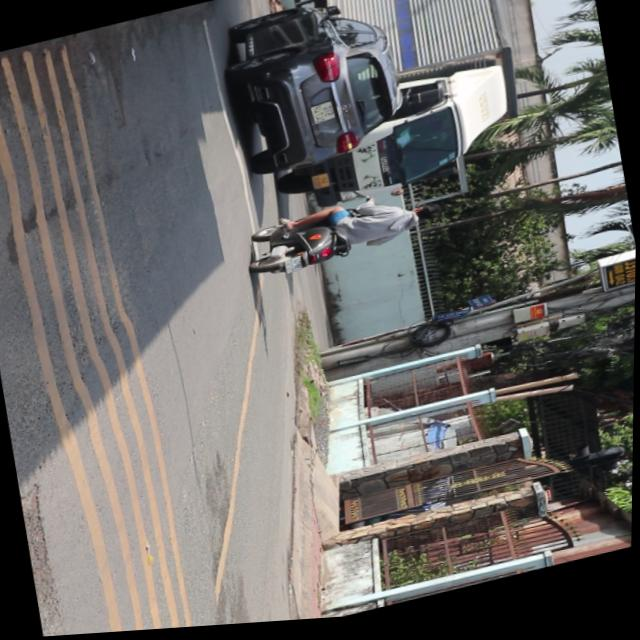licenseplate: (244, 186, 449, 290)
motorcyclist: (411, 207, 445, 232)
nohelmet: (285, 261, 303, 278)
